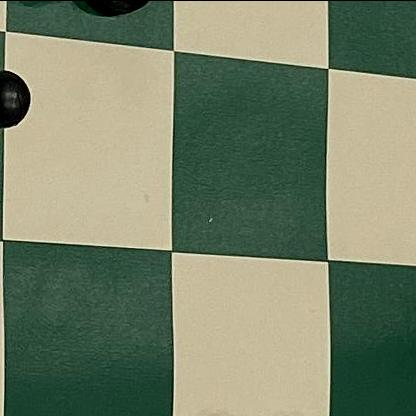black-pawn: (59, 0, 245, 34), (0, 49, 47, 176)
